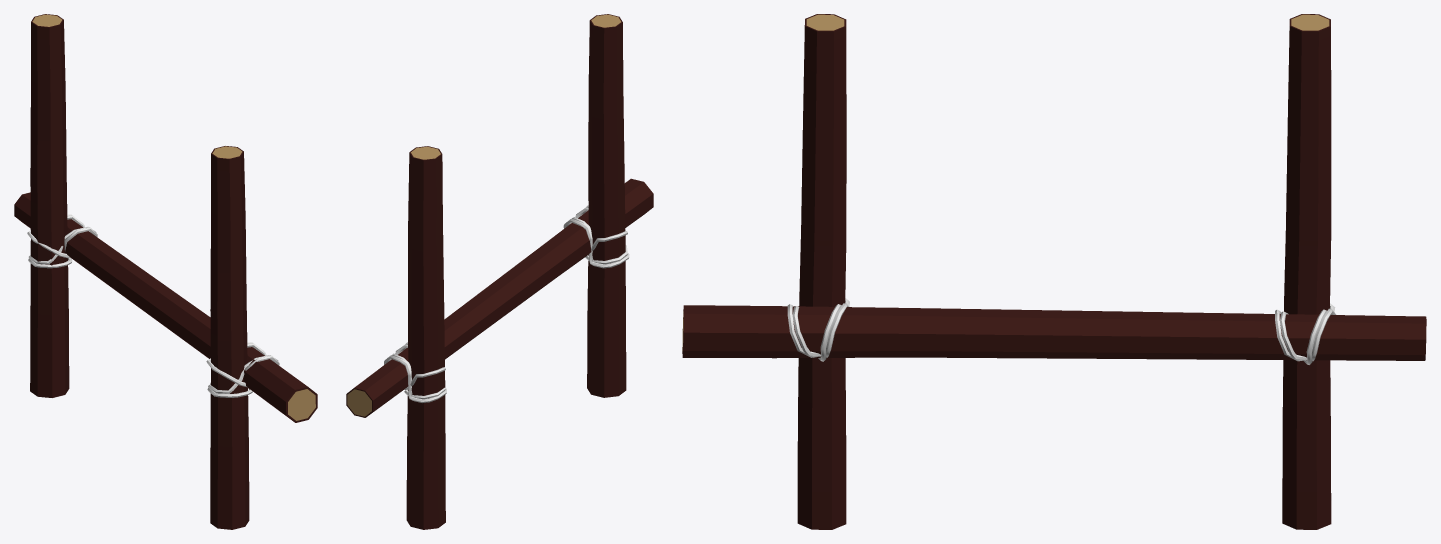
The model's file is SM_Fence_002.fbx.
The picture shows the model from 3 angles, left to right: view 1: azimuth 30°, elevation 25°; view 2: azimuth 150°, elevation 25°; view 3: azimuth 270°, elevation 25°; orthographic projection. The views are drawn at different scales.
Parts seen in each view (by area): view 1: Fence; view 2: Fence; view 3: Fence.
Part boxes in pixels (bbox=[...]): Fence: bbox=[14, 14, 317, 529]; Fence: bbox=[346, 14, 653, 529]; Fence: bbox=[682, 14, 1426, 529].
Size of what is drawn, in the model's own units: 23.6 by 140 by 190.
